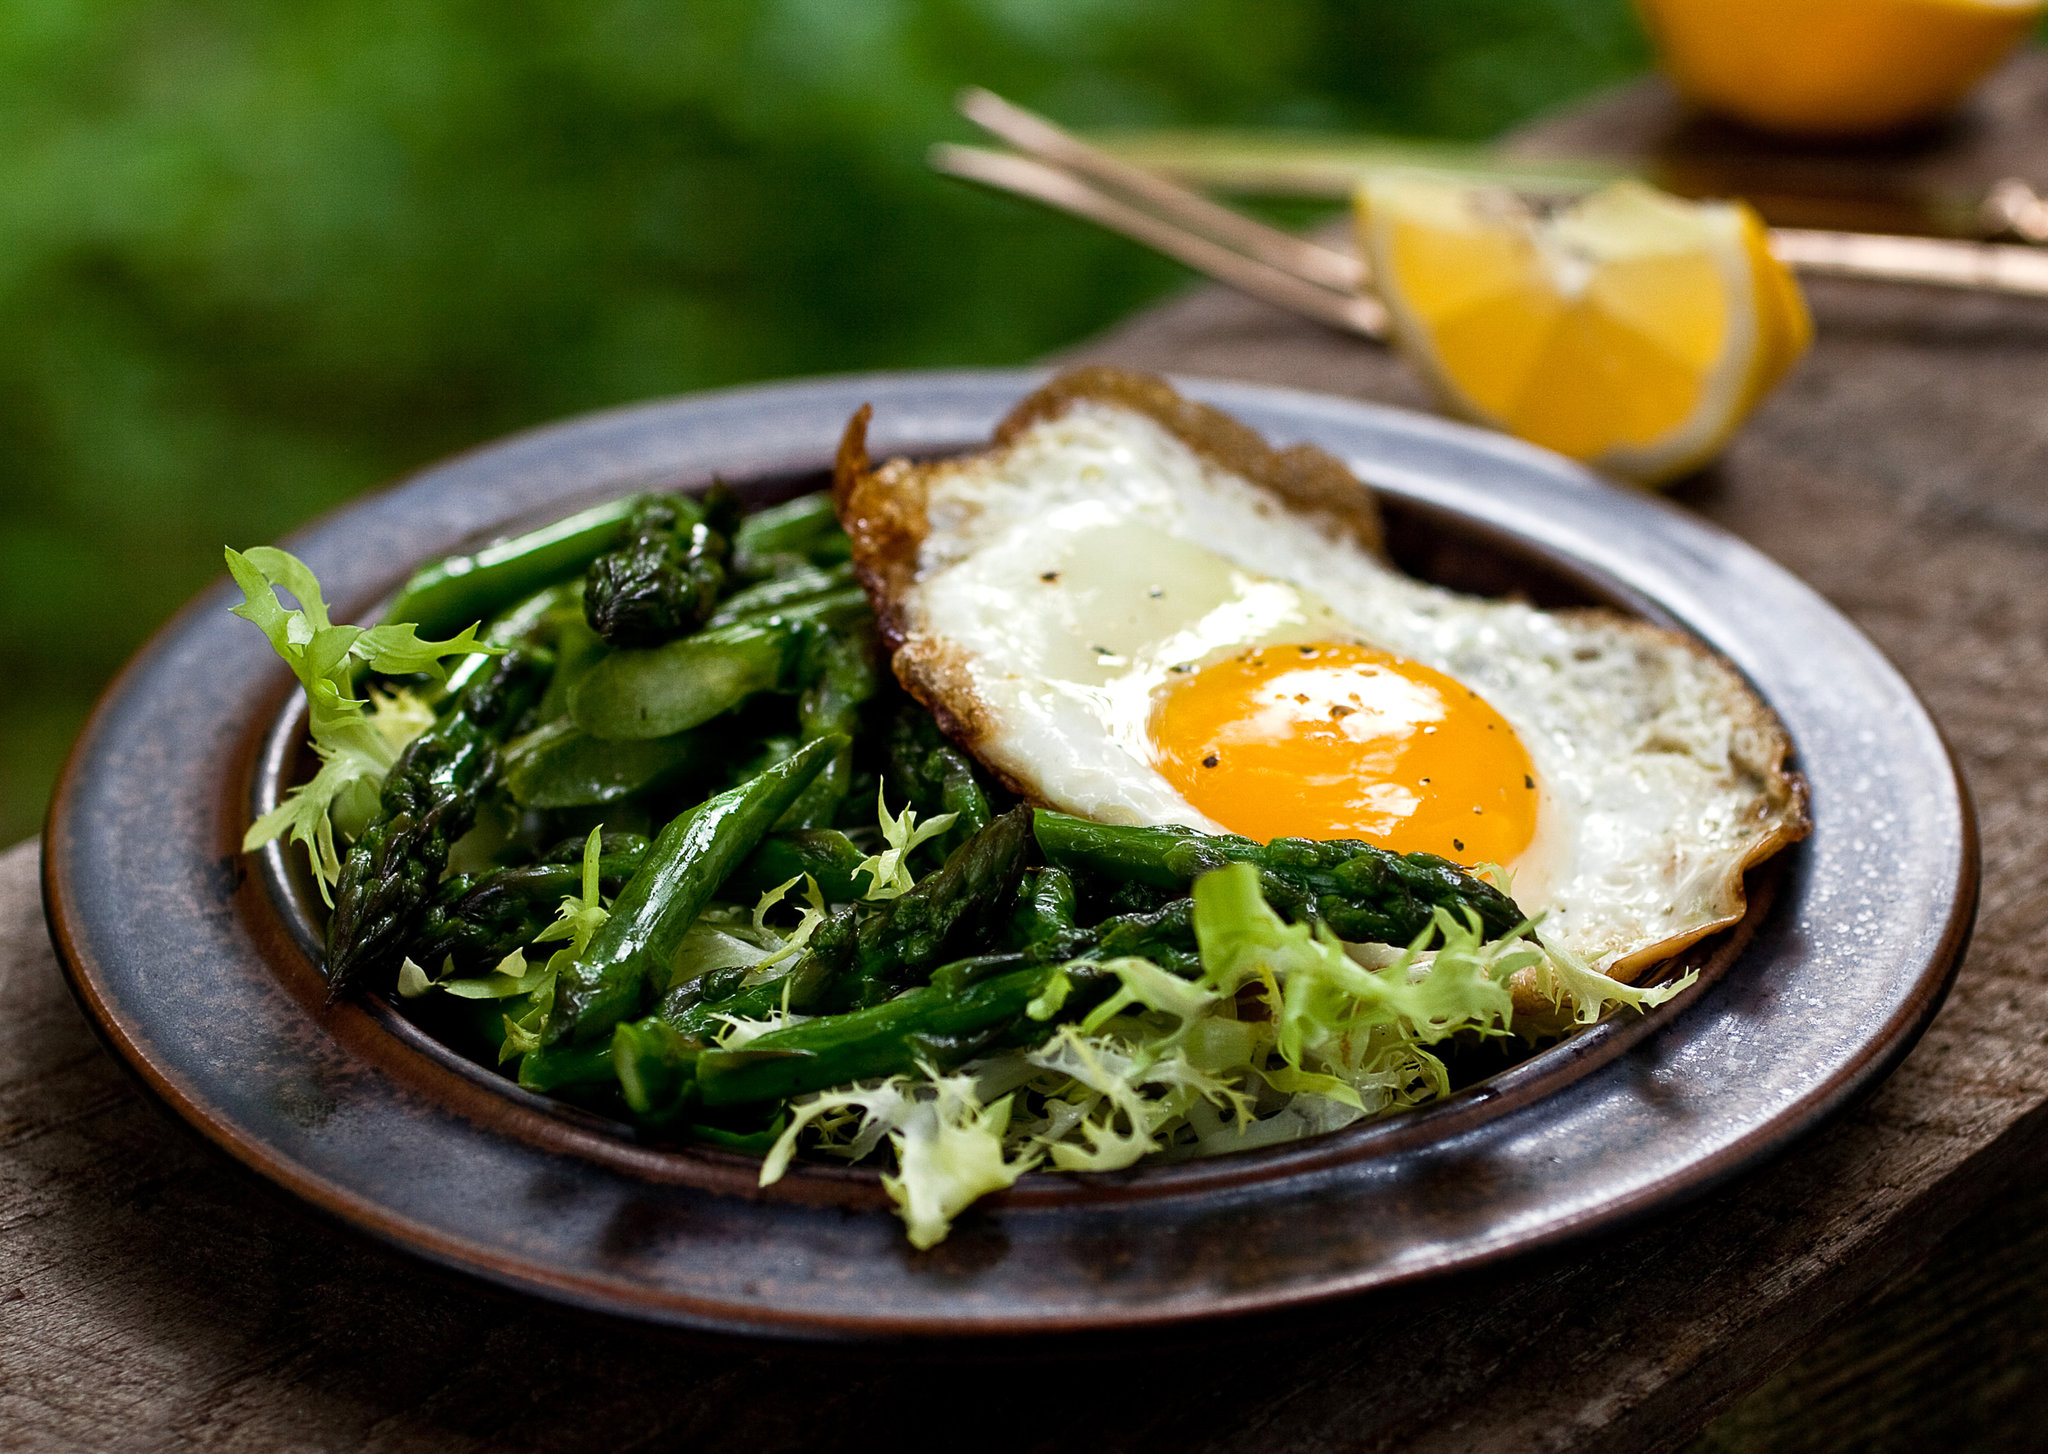chopped lettuce: (285, 524, 1571, 1169)
fried egg: (875, 420, 1727, 961)
